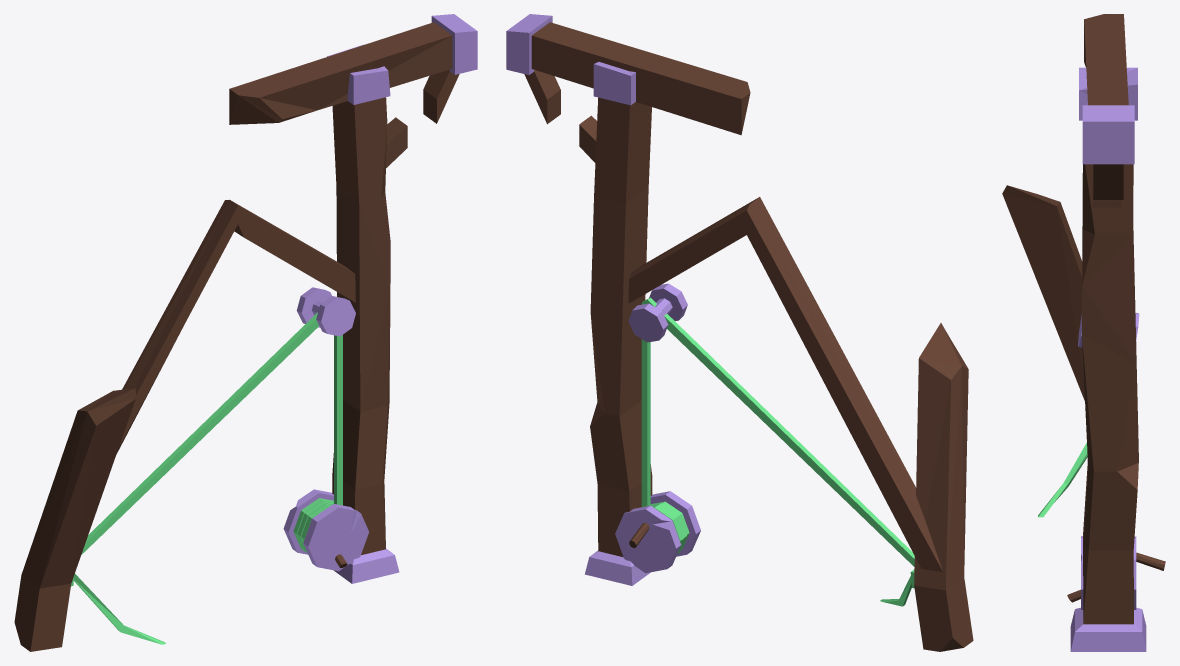
File: Crane_3.fbx
3 renders of one model, left to right at view 1: azimuth 30°, elevation 25°; view 2: azimuth 150°, elevation 25°; view 3: azimuth 270°, elevation 25°, orthographic. The views are drawn at different scales.
Parts seen in each view (by area): view 1: Crane_3; view 2: Crane_3; view 3: Crane_3.
Part boxes in pixels (bbox=[...]): Crane_3: bbox=[14, 14, 477, 651]; Crane_3: bbox=[506, 14, 973, 651]; Crane_3: bbox=[1002, 14, 1165, 651].
Bounding box in the file's own units: 4.23 × 4.74 × 1.21.
